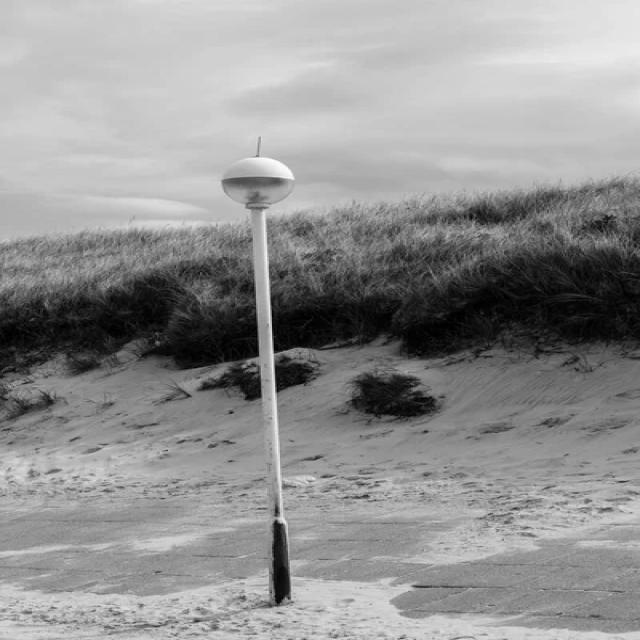Pole: (221, 155, 294, 605)
